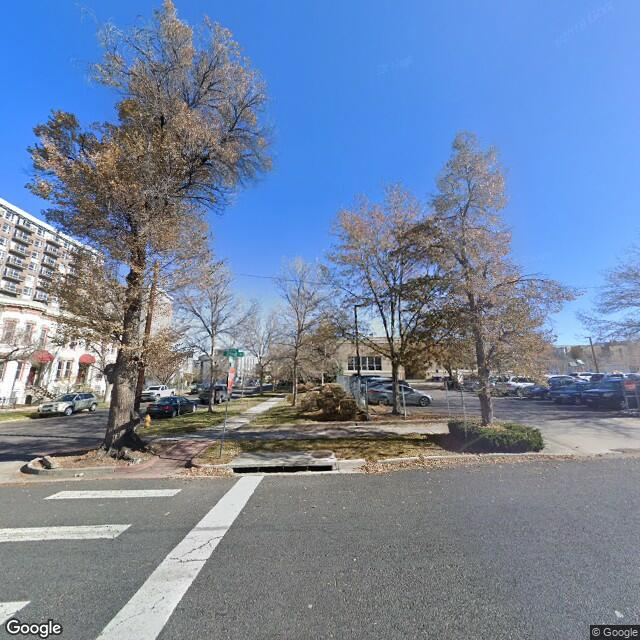fh: (141, 411, 154, 433)
